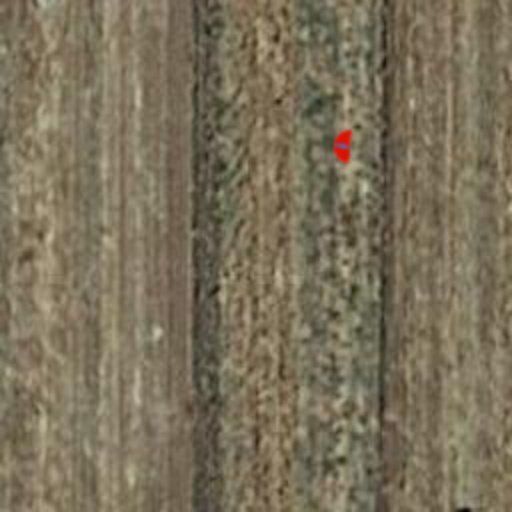semicircle: (324, 128, 360, 164)
